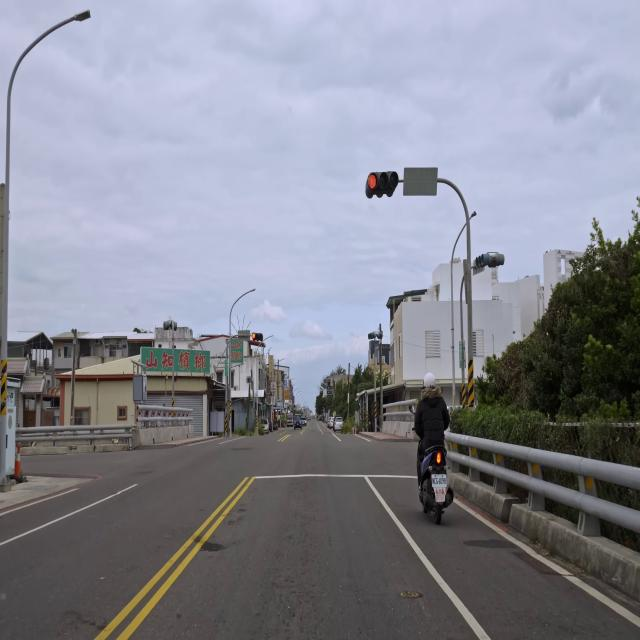red light: (364, 171, 398, 197), (252, 332, 264, 342)
